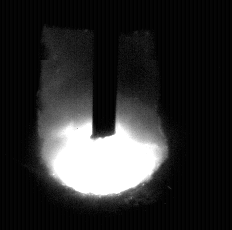arame: (93, 0, 117, 139)
poca: (39, 0, 169, 230)
